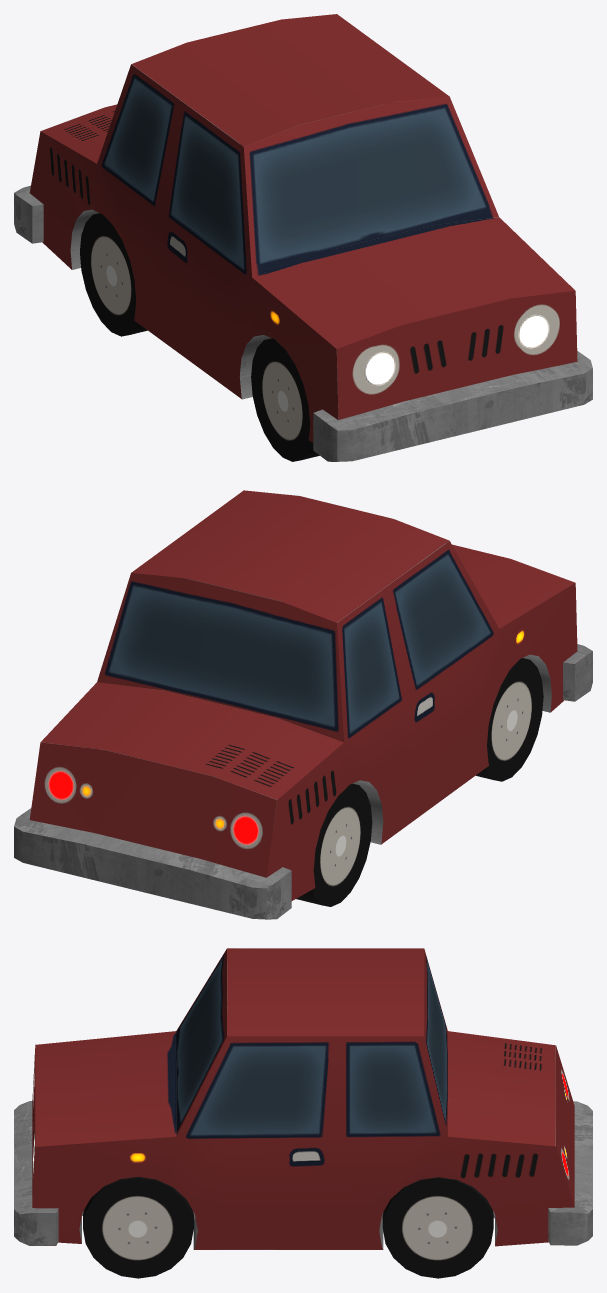
The model's file is lowpoly_pbr_car.glb.
3 views of the same model, one above another, from view 1: azimuth 30°, elevation 25°; view 2: azimuth 150°, elevation 25°; view 3: azimuth 270°, elevation 25° (orthographic). The views are drawn at different scales.
Visible parts, largest first — view 1: City.Car, Car.Wheel.FR, Car.Wheel.BR; view 2: City.Car, Car.Wheel.BR, Car.Wheel.FR; view 3: City.Car, Car.Wheel.FL, Car.Wheel.BL.
Boxes of the visible parts, <box> form: City.Car: <box>14,14,592,461</box>; Car.Wheel.FR: <box>251,338,319,461</box>; Car.Wheel.BR: <box>80,213,147,336</box>; City.Car: <box>14,490,592,919</box>; Car.Wheel.BR: <box>296,783,372,906</box>; Car.Wheel.FR: <box>476,658,543,781</box>; City.Car: <box>14,948,592,1249</box>; Car.Wheel.FL: <box>83,1176,193,1278</box>; Car.Wheel.BL: <box>382,1177,493,1278</box>.
Size of the model in its own units: 213 by 216 by 463.
Materials: 2 (2 with a texture image).
